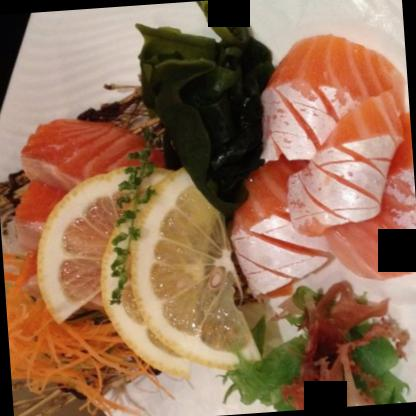salmon: (211, 35, 415, 282)
